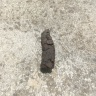Dog: (41, 28, 56, 74)
